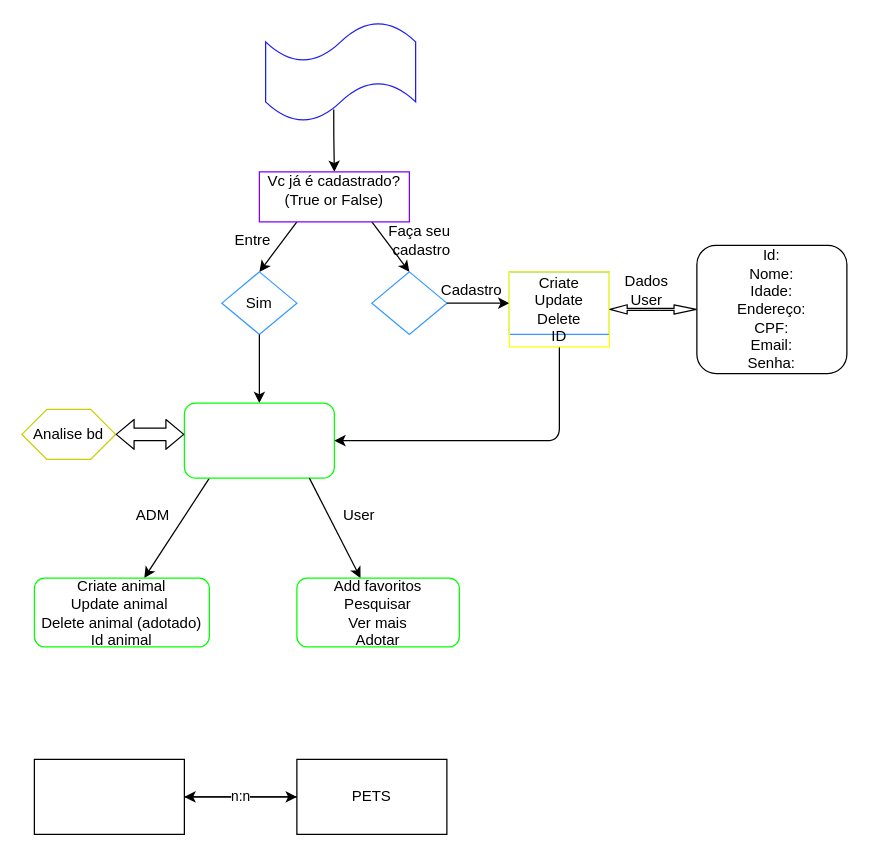
Image size: 869x856. Some labels were removed from this diagram. The shapes that lost their labels are listed below. From the top down, each one's box as (x1, y1, x2, y2) in pixels, then its label:
(264, 21, 416, 122): Adote um PET
(371, 271, 447, 334): Não
(183, 402, 334, 478): Digite seus dados (conferencia bd)
(33, 758, 184, 834): Users
